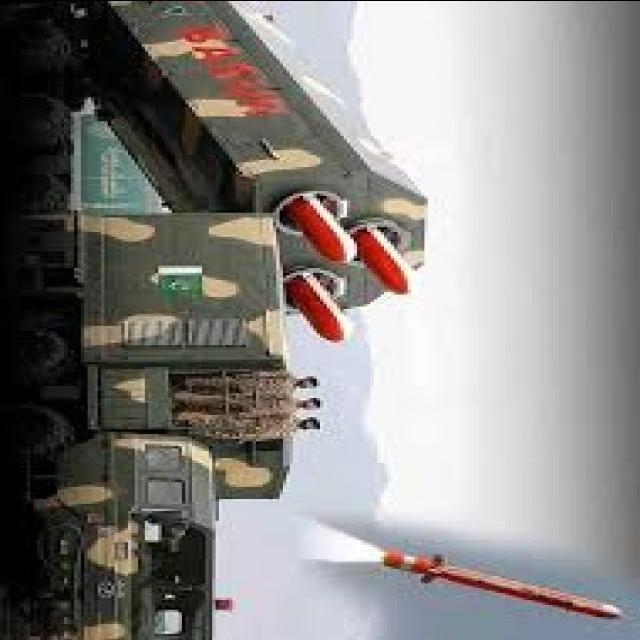Missile: (374, 549, 626, 622)
